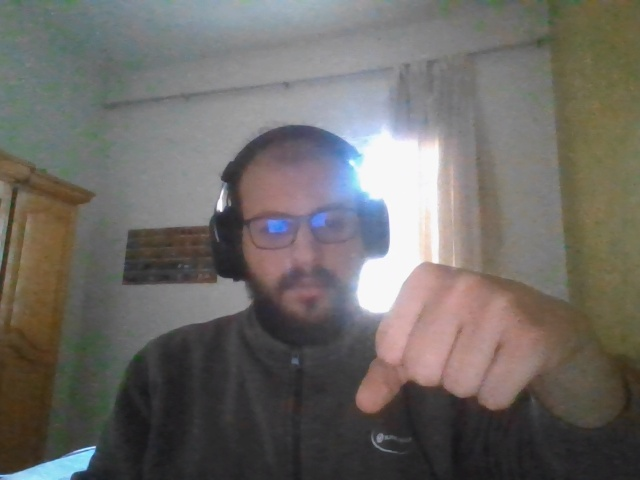Yes: (357, 262, 535, 430)
